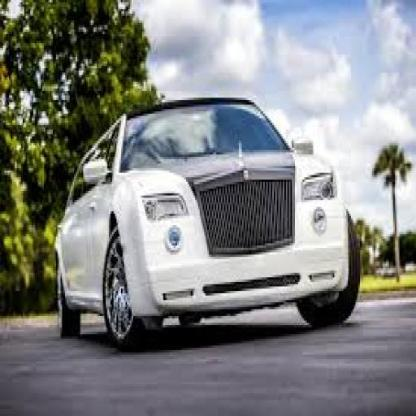car: (44, 87, 368, 352)
